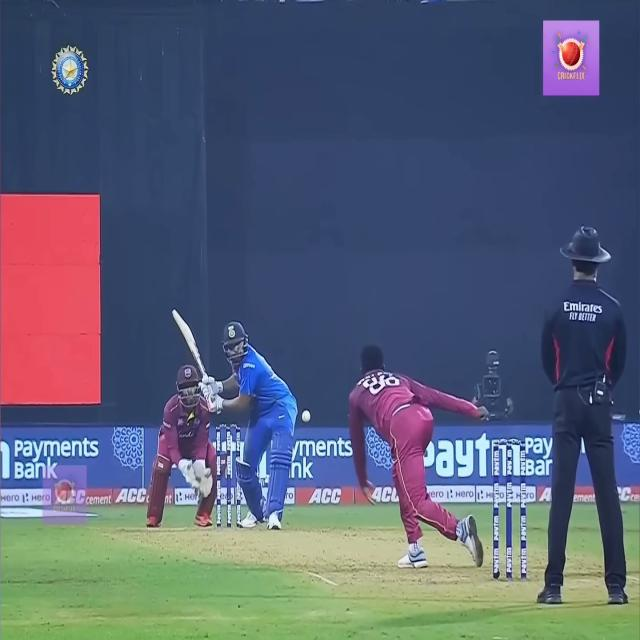partially_visible: (432, 434, 522, 489)
